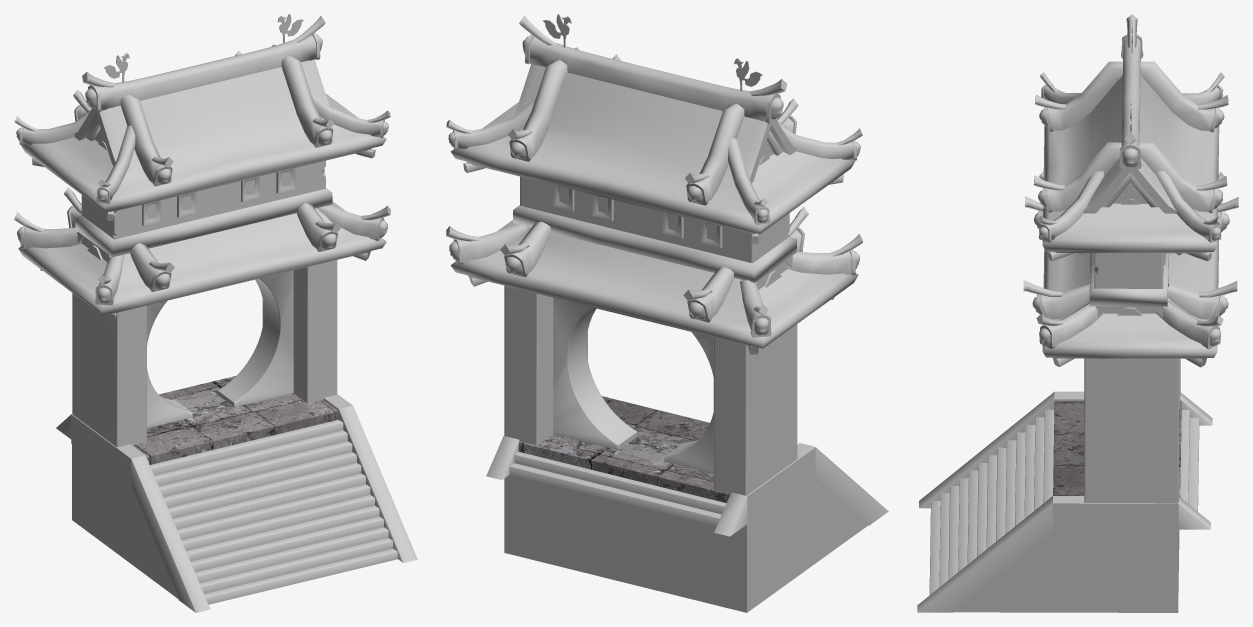
File: SM_AsianCastle_D.FBX
The picture shows the model from 3 angles, left to right: view 1: azimuth 30°, elevation 25°; view 2: azimuth 150°, elevation 25°; view 3: azimuth 270°, elevation 25°; orthographic projection. The views are drawn at different scales.
Visible parts, largest first — view 1: SM_AsianCastle_D; view 2: SM_AsianCastle_D; view 3: SM_AsianCastle_D.
Part boxes in pixels (box(x1,y1,x2,y2)): SM_AsianCastle_D: box(14, 14, 417, 612); SM_AsianCastle_D: box(446, 14, 888, 612); SM_AsianCastle_D: box(917, 14, 1238, 612).
Size of the model in its own units: 753 by 690 by 1168.
